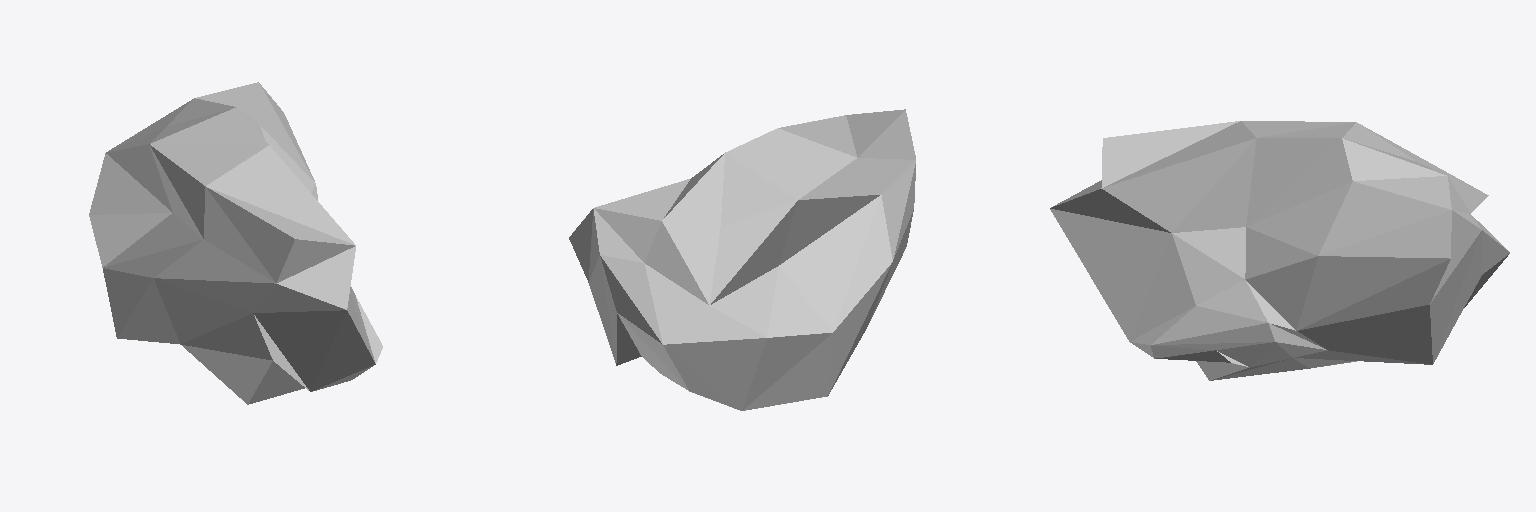
The model's file is RockLow2.obj.
3 views of the same model, side by side, from view 1: azimuth 30°, elevation 25°; view 2: azimuth 150°, elevation 25°; view 3: azimuth 270°, elevation 25° (orthographic).
Visible parts, largest first — view 1: pasted__pCube2 group; view 2: pasted__pCube2 group; view 3: pasted__pCube2 group.
Part boxes in pixels (left/top/right/bottom): pasted__pCube2 group: left=89, top=82, right=382, bottom=404; pasted__pCube2 group: left=569, top=109, right=915, bottom=410; pasted__pCube2 group: left=1050, top=121, right=1509, bottom=380.
Bounding box in the file's own units: 33.47 × 34.69 × 58.76.